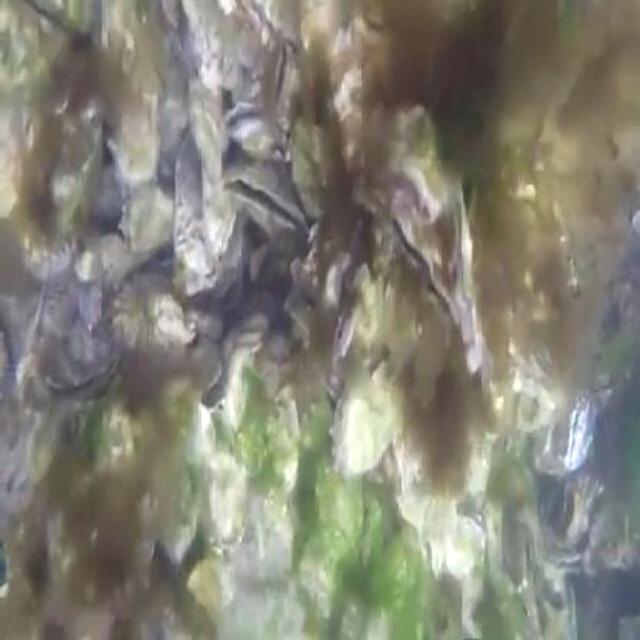Oyster-Closed: (184, 97, 239, 258), (205, 489, 293, 587), (173, 129, 219, 301), (329, 384, 404, 481), (152, 376, 214, 467), (184, 0, 242, 87), (314, 453, 363, 554), (112, 97, 161, 192), (266, 391, 301, 489), (451, 188, 473, 341), (125, 187, 175, 253), (210, 456, 248, 539), (189, 554, 233, 624), (238, 0, 303, 44), (443, 518, 487, 578), (97, 233, 150, 282), (501, 522, 536, 596), (332, 306, 357, 362), (231, 329, 263, 359), (161, 0, 179, 33)
Oyster-Open: (351, 180, 455, 327), (220, 159, 309, 239), (34, 328, 119, 401), (226, 101, 280, 169), (420, 491, 459, 581), (185, 336, 227, 408), (563, 386, 596, 473), (272, 43, 300, 139), (557, 484, 589, 546), (545, 548, 582, 574)
